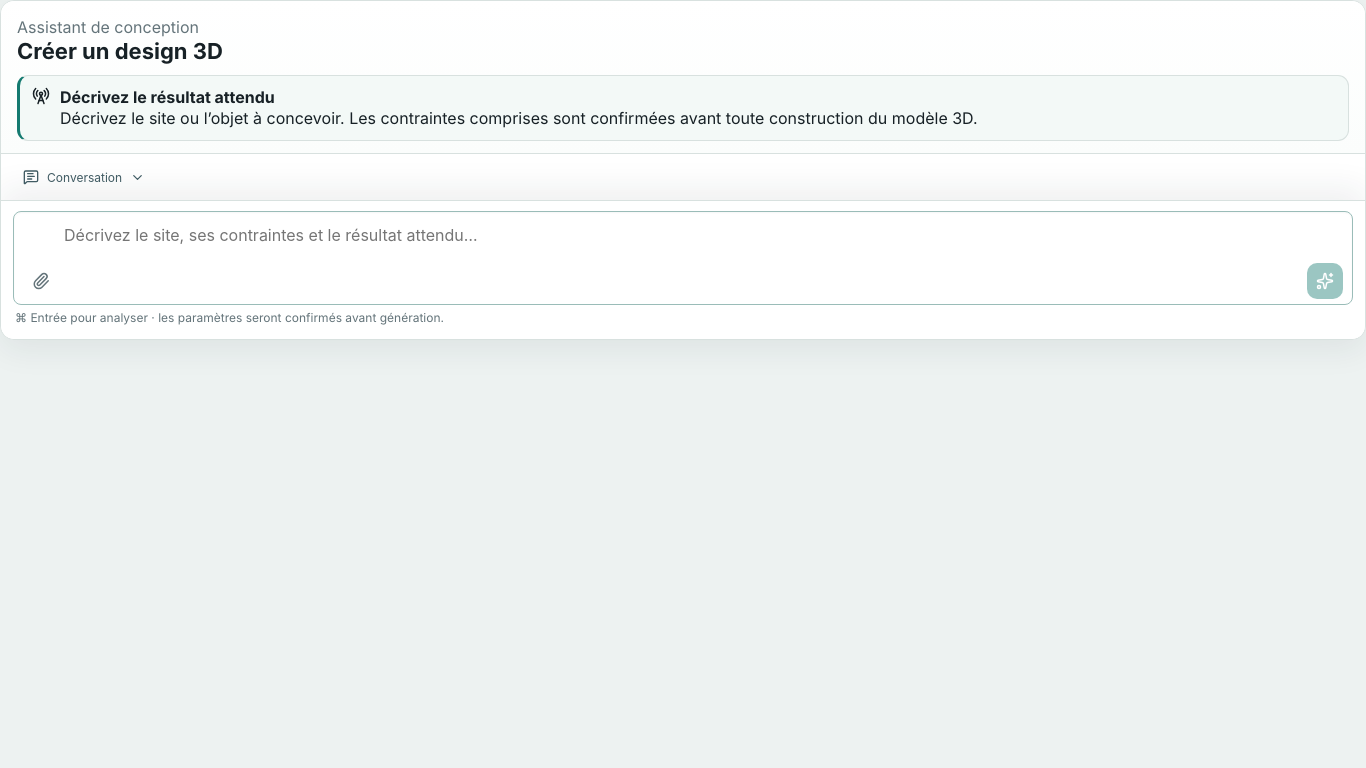
Scenario: studio kernel conversation command › keeps the conversation and attachment surfaces mutually exclusive
Click the button "Conversation".
click(84, 178)  # box top-left (15, 158), bottom-right (153, 196)
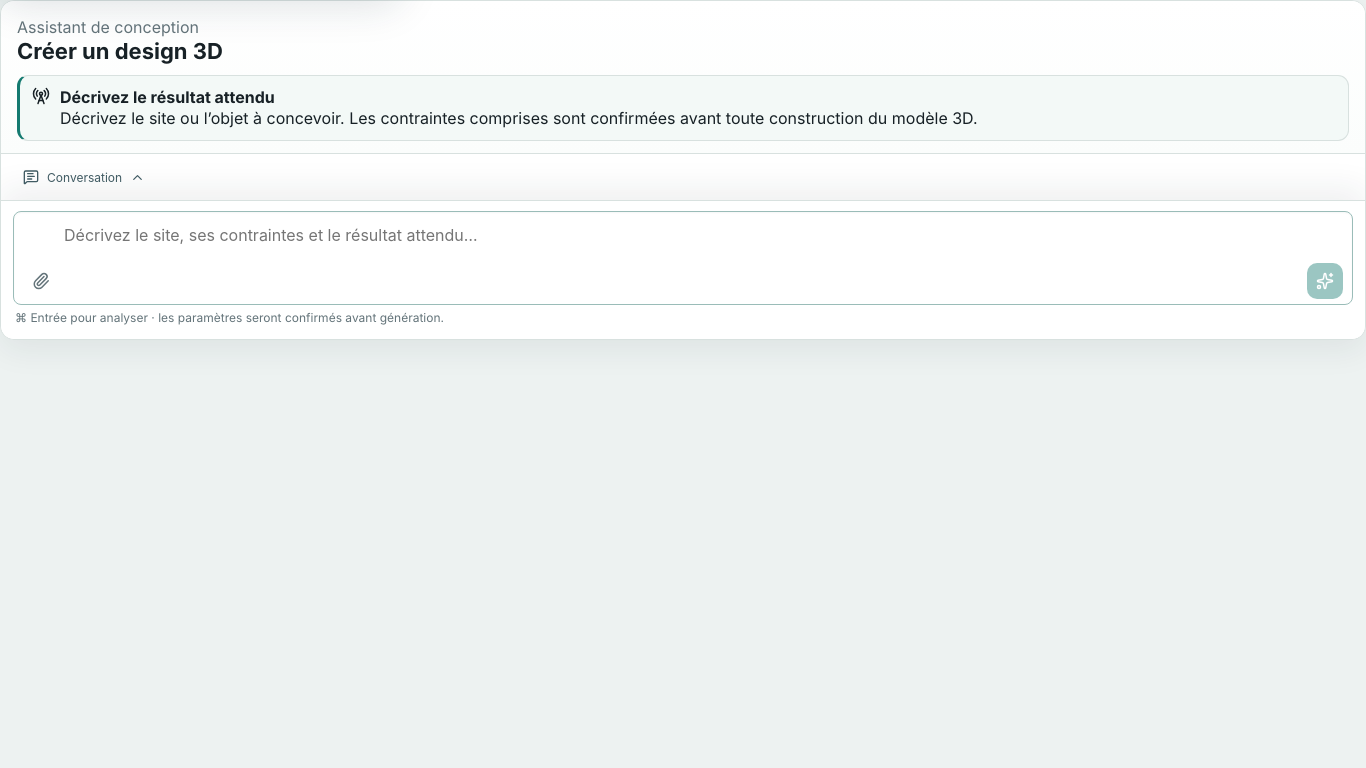
Expected: the button "Conversation" is expanded, top-left (15, 158), bottom-right (153, 196)
Click the button named "Ajouter des pièces jointes".
click(41, 282)  # box top-left (23, 264), bottom-right (59, 300)
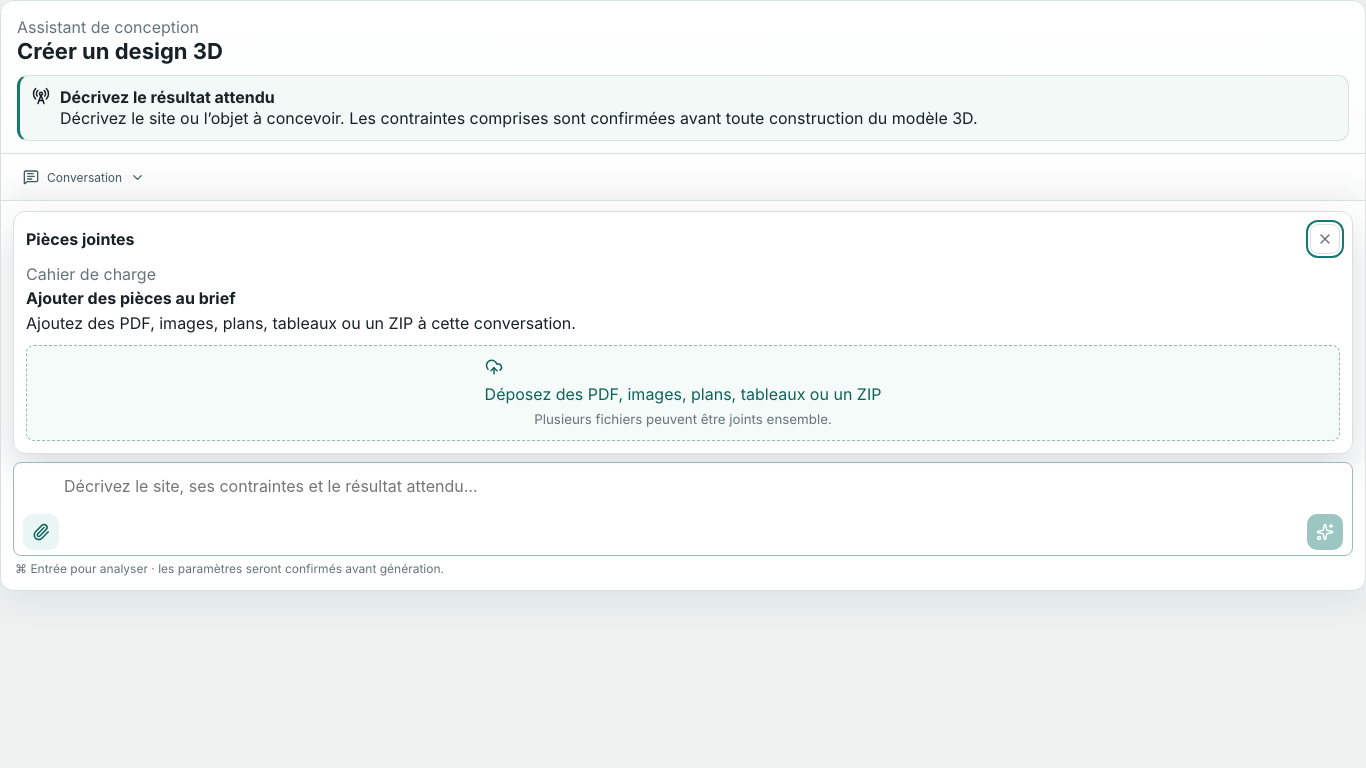
Expected: the button named "Ajouter des pièces jointes" is expanded, top-left (23, 514), bottom-right (59, 550)
Expected: the button "Conversation" is collapsed
Click the button "Conversation".
click(84, 178)  # box top-left (15, 158), bottom-right (153, 196)
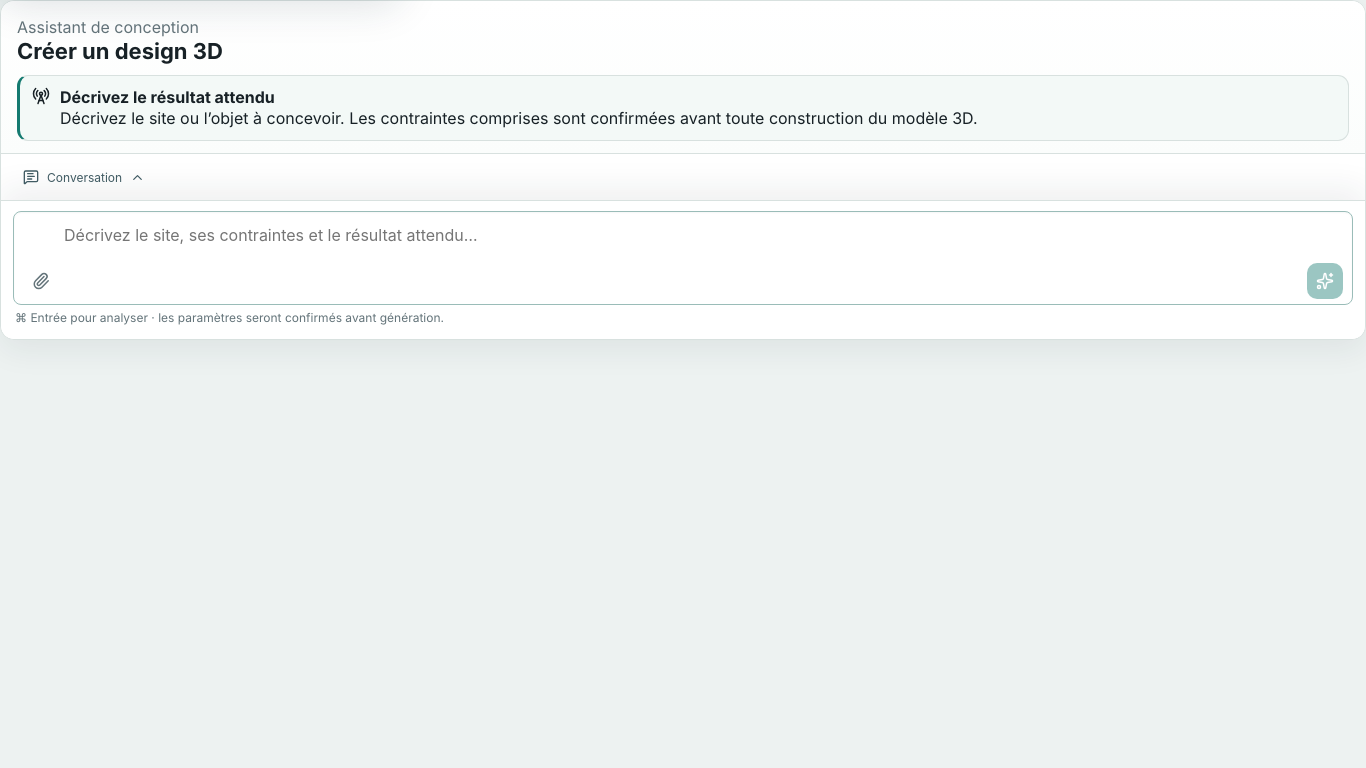
Expected: the button "Conversation" is expanded, top-left (15, 158), bottom-right (153, 196)
Expected: the button named "Ajouter des pièces jointes" is collapsed, top-left (23, 264), bottom-right (59, 300)
